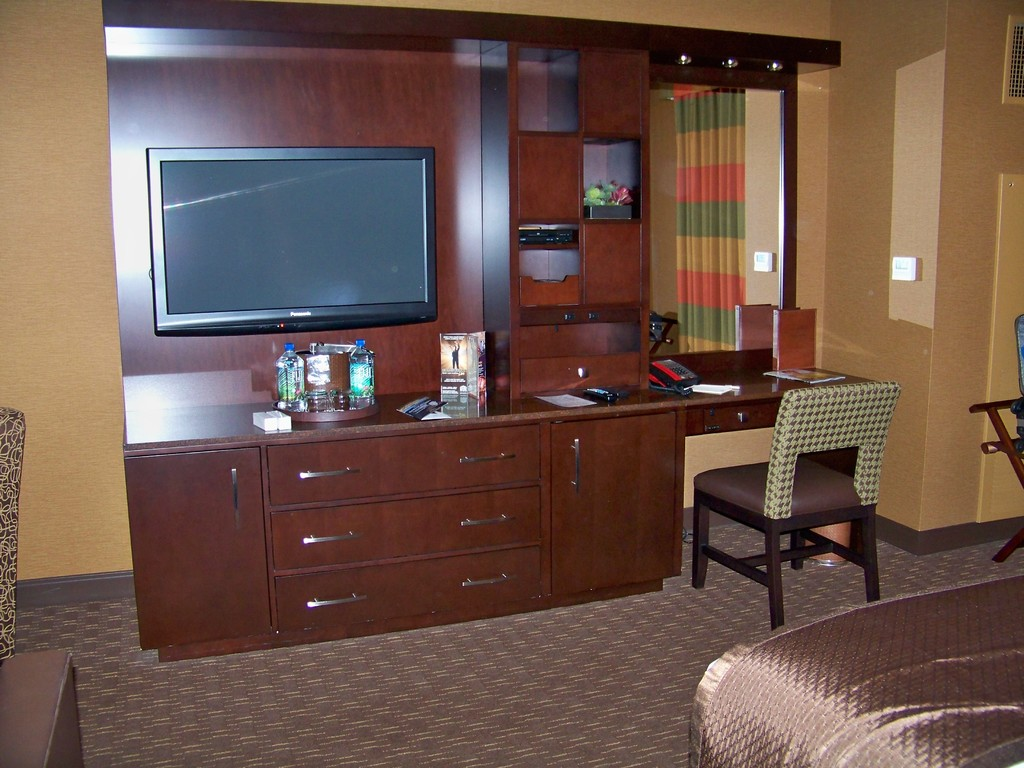Cabinetry: (127, 406, 687, 650), (687, 365, 877, 444)
